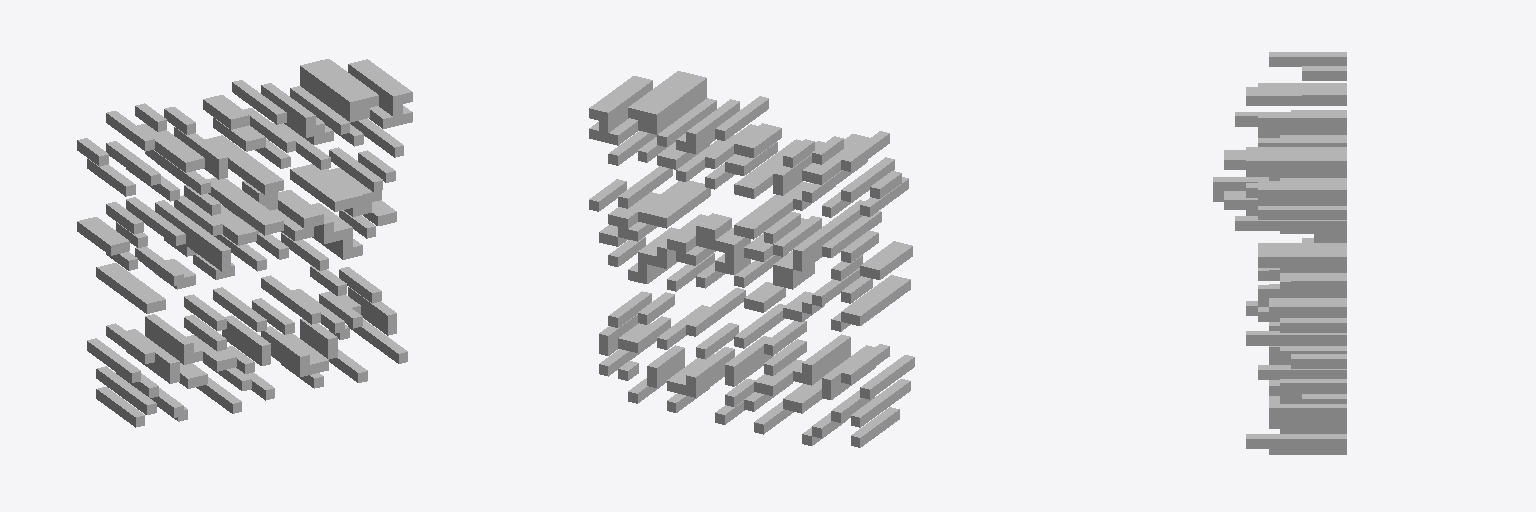
The model's file is field_no_ground.obj.
3 views of the same model, side by side, from view 1: azimuth 30°, elevation 25°; view 2: azimuth 150°, elevation 25°; view 3: azimuth 270°, elevation 25° (orthographic).
Size of the model in its own units: 30 by 29 by 12.